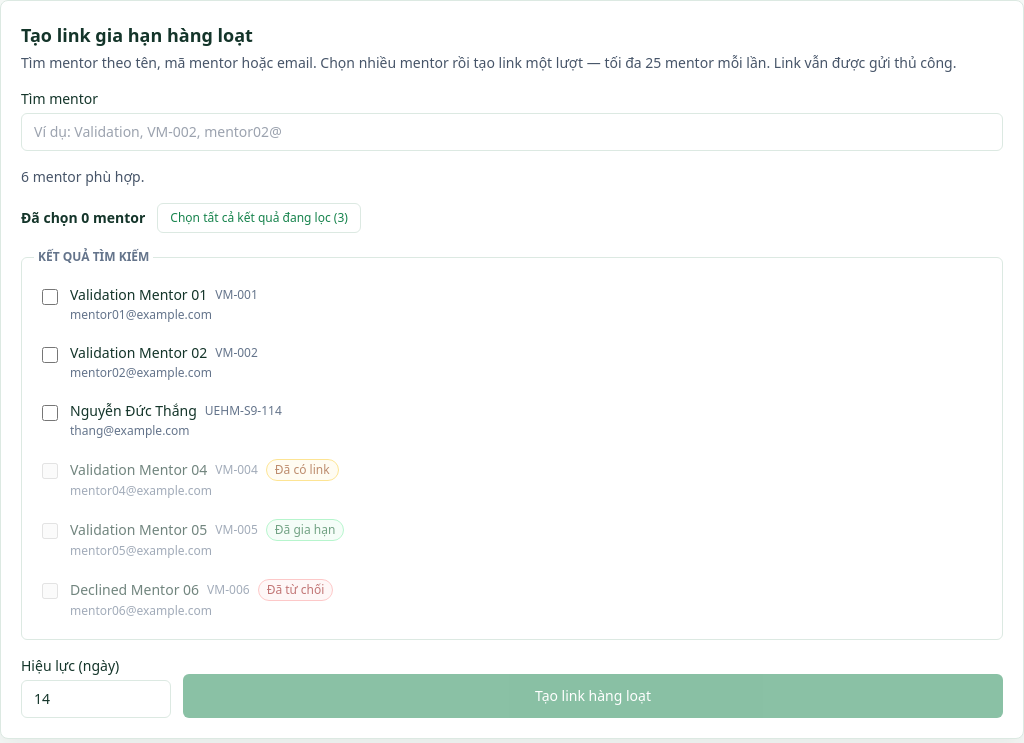
Test: M075 picker — selection › counts multiple selections
Click the checkbox labelled "Validation Mentor 01 VM-001 mentor01@example.com". click: (50, 297)
box: [42,289,58,305]
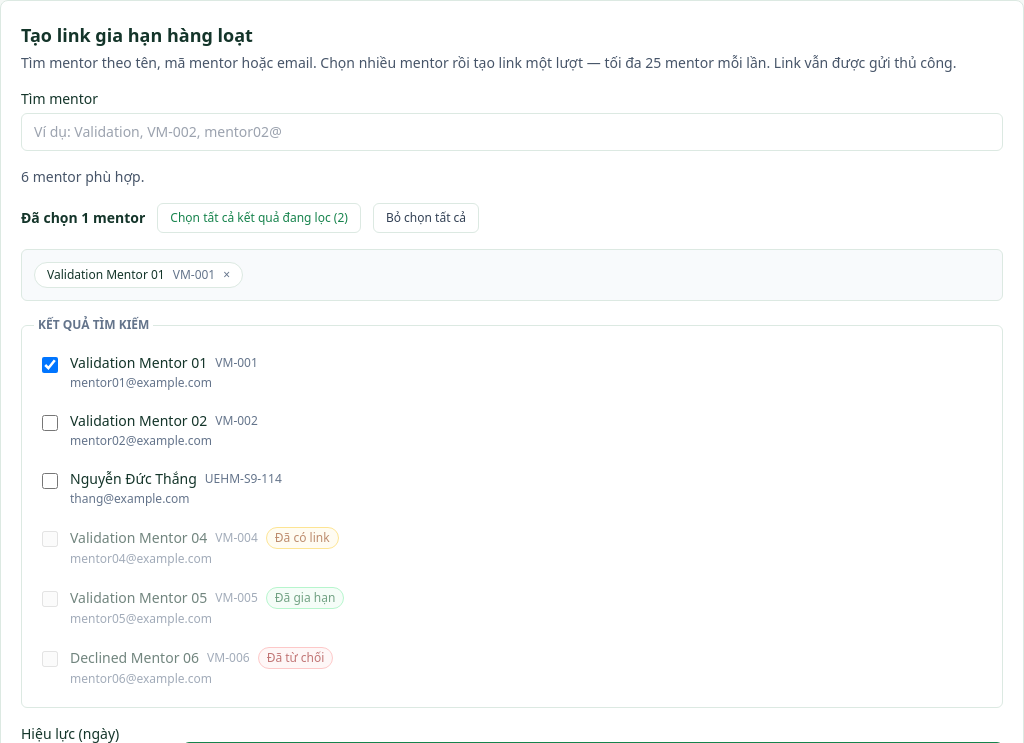
Click the checkbox labelled "Validation Mentor 02 VM-002 mentor02@example.com". click: (50, 423)
box: [42,415,58,431]
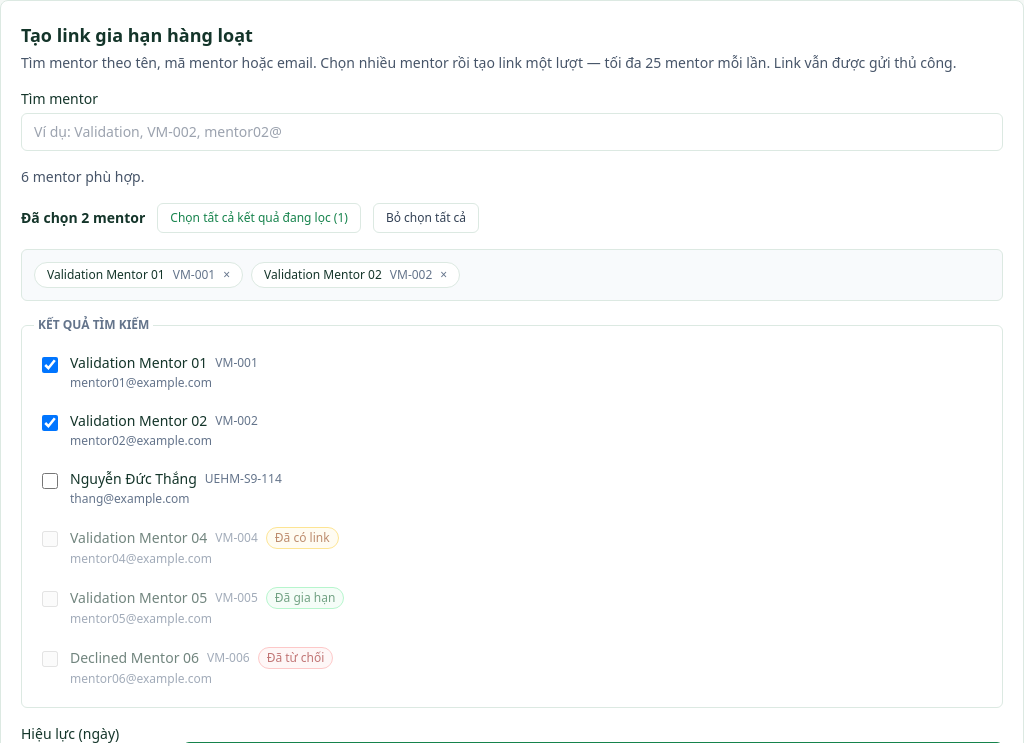
Check: the text "Đã chọn 2 mentor" is shown, box [21,208,145,228]
